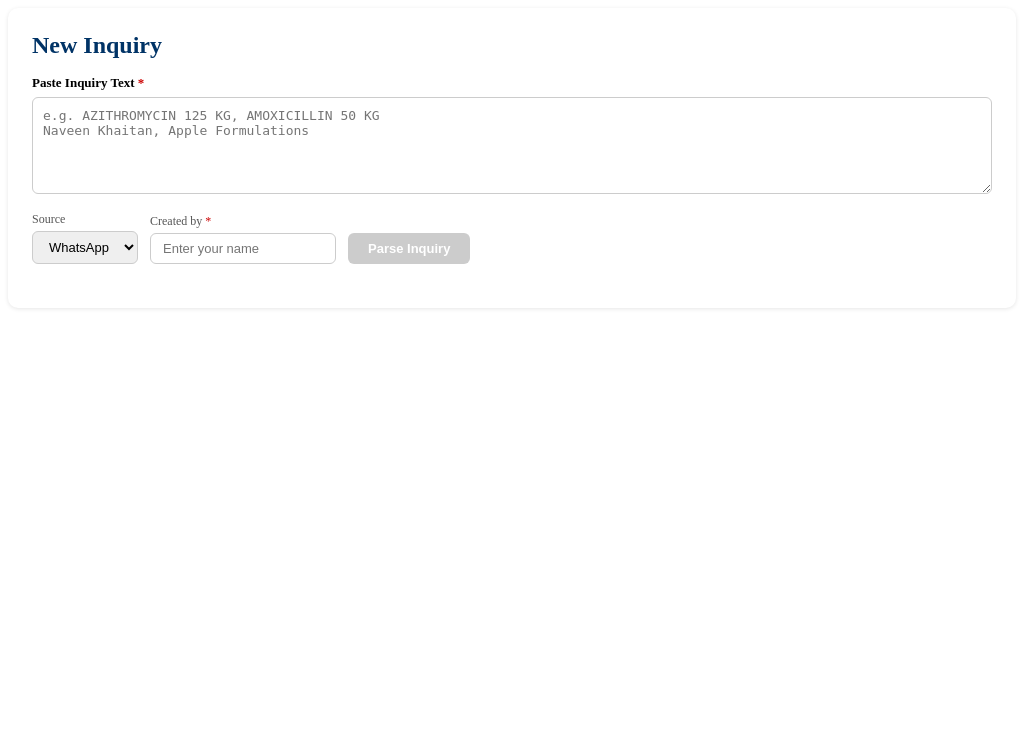
Test: NewInquiry — parse and save flow › shows validation error when no products have a name
Replace the text in the text box with "some text": x=512, y=146 x1=32 y1=97 x2=992 y2=194
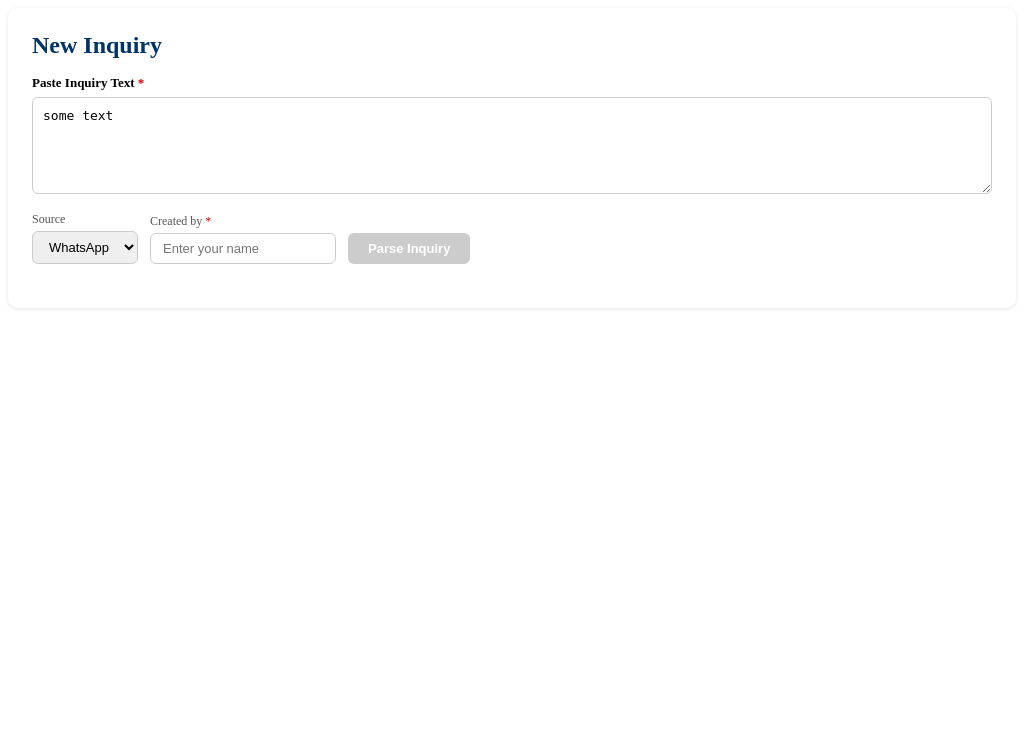
In the field with placeholder "Enter your name": x=243, y=248 x1=150 y1=233 x2=336 y2=264, type "Paras"
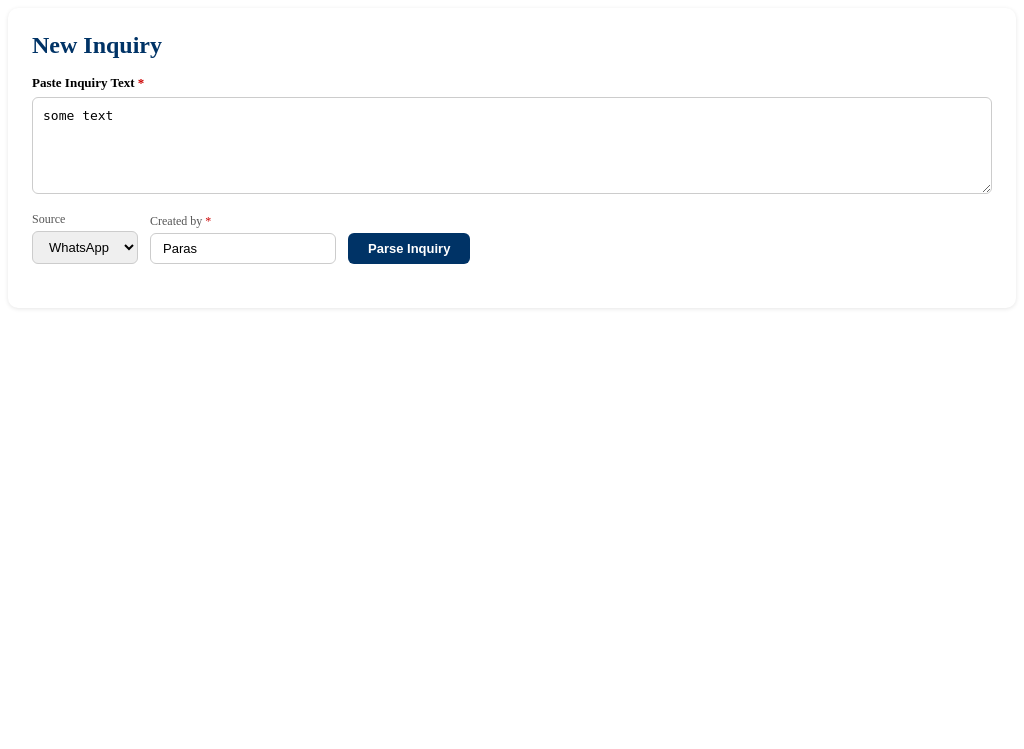
Click the button "Parse Inquiry": x=409, y=248 x1=348 y1=233 x2=470 y2=264
(page scrolled)
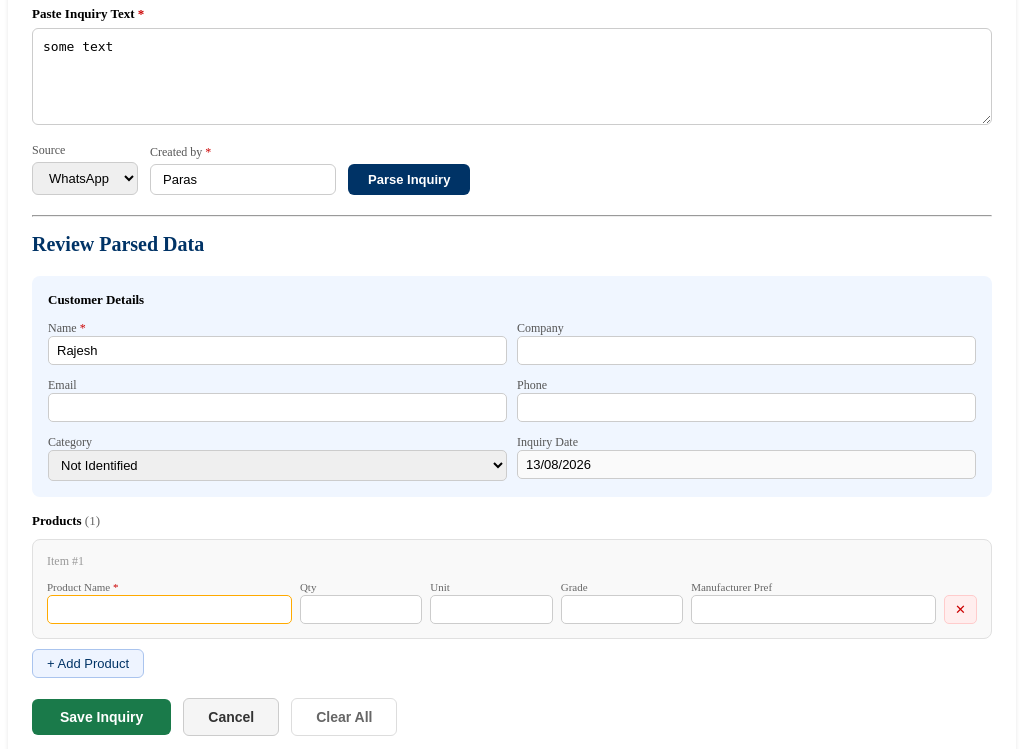
expect the button "Save Inquiry" is shown: met
Click the button "Save Inquiry": x=102, y=717 x1=32 y1=699 x2=171 y2=735
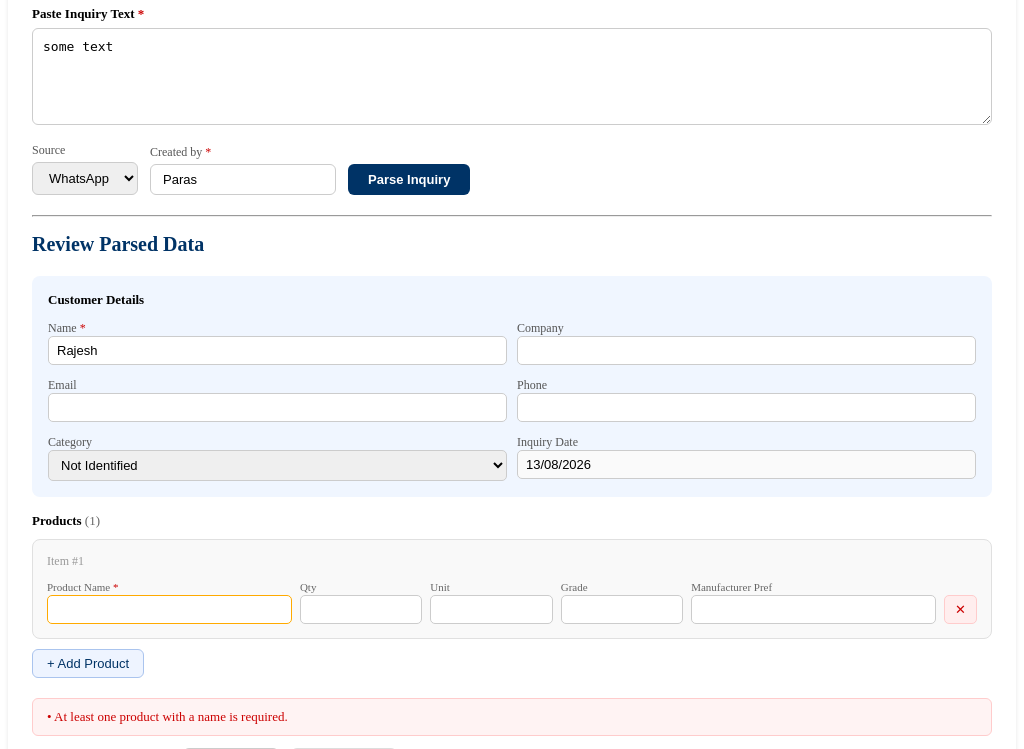
expect the text "• At least one product with a name is required." is shown: met, box x1=47 y1=709 x2=288 y2=724
